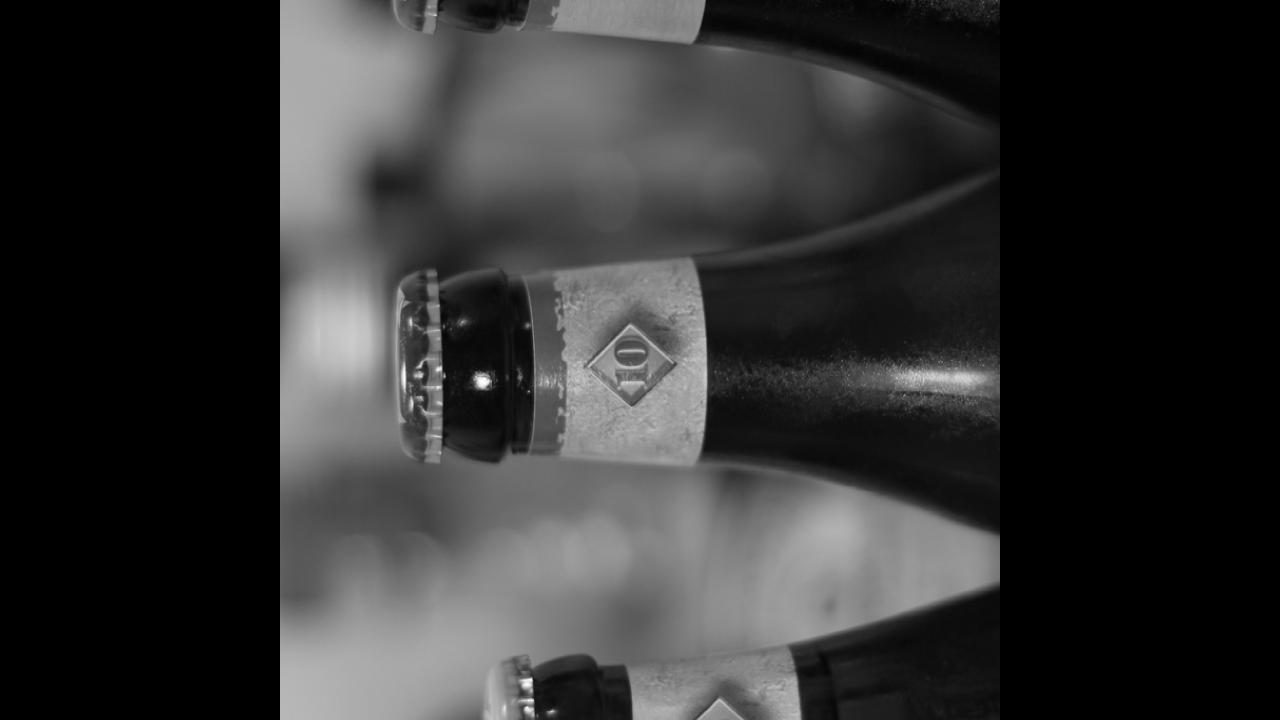bottle_cap: (392, 264, 442, 464), (482, 651, 541, 720)
